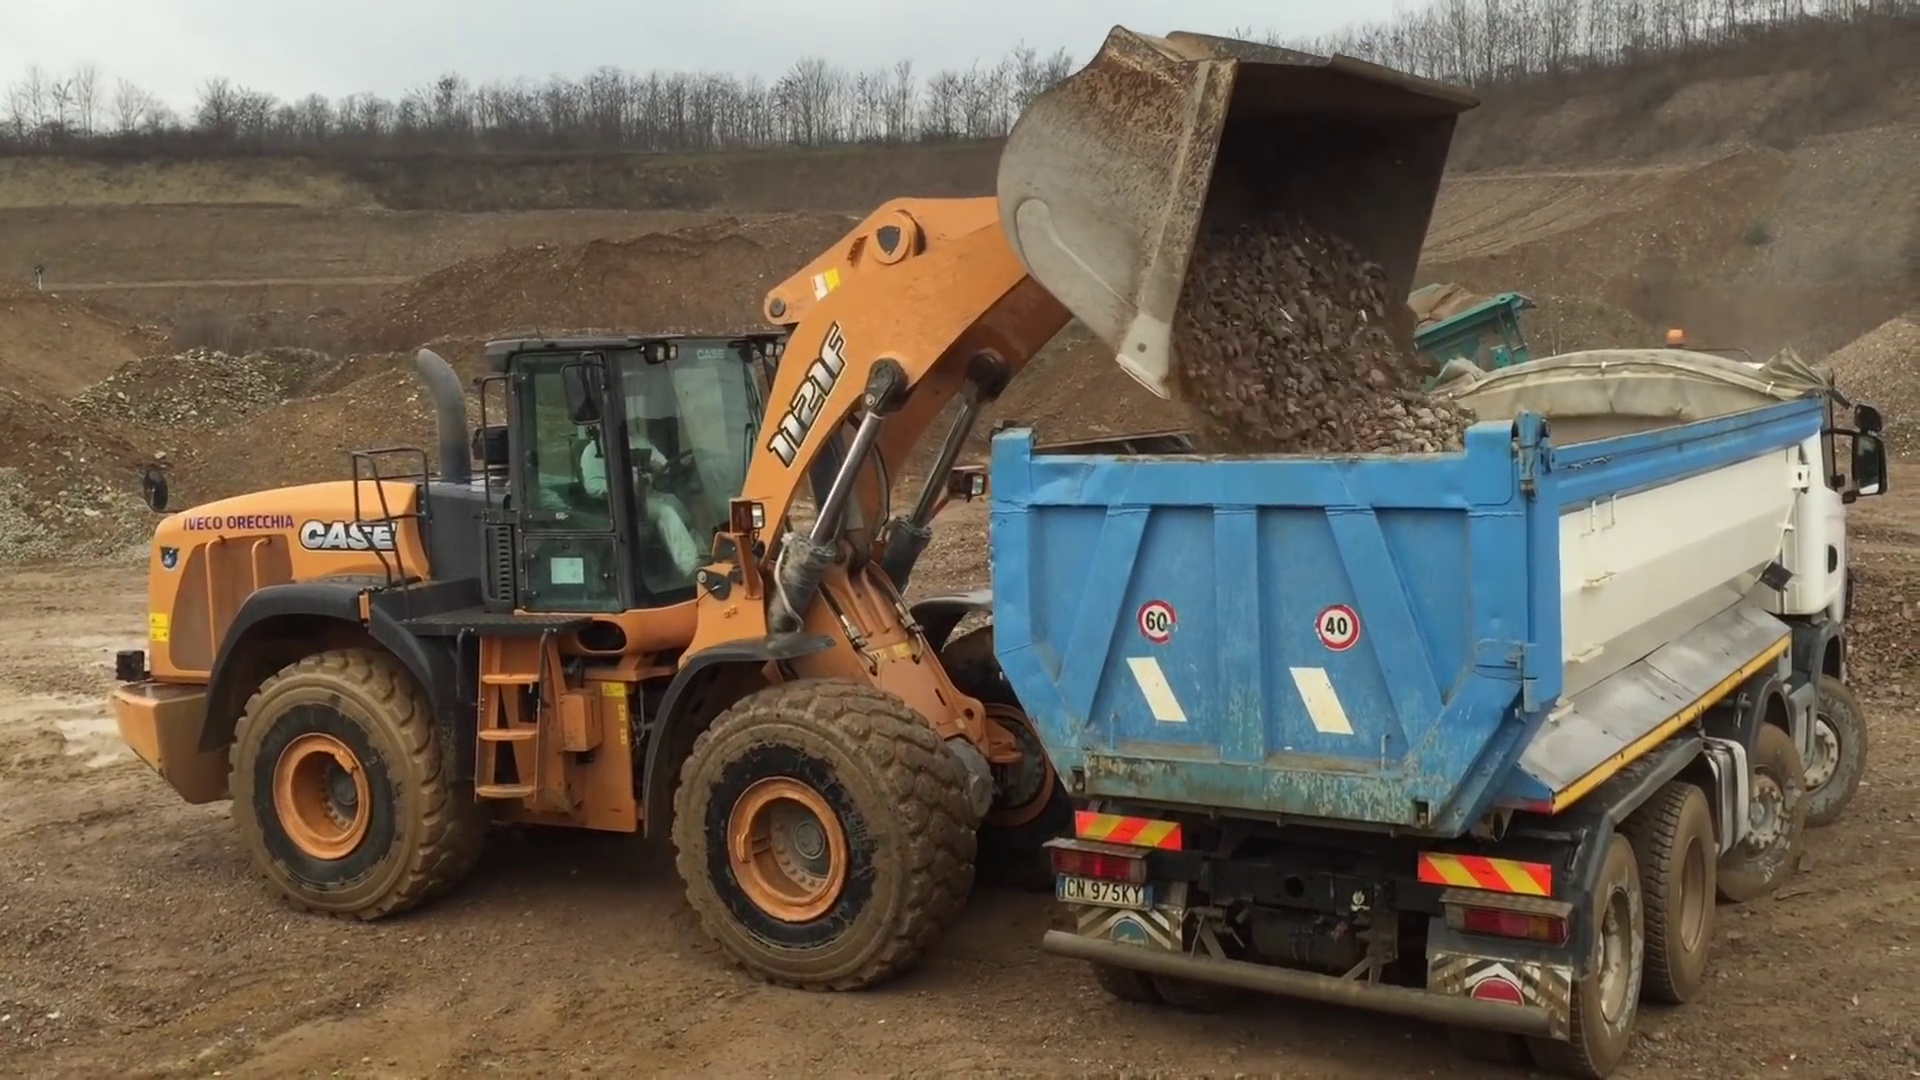truck: (989, 345, 1891, 1080)
wheel loader: (116, 20, 1478, 996)
